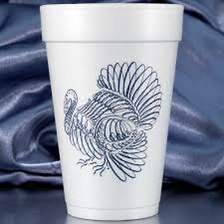paper_cup: (35, 0, 186, 224)
